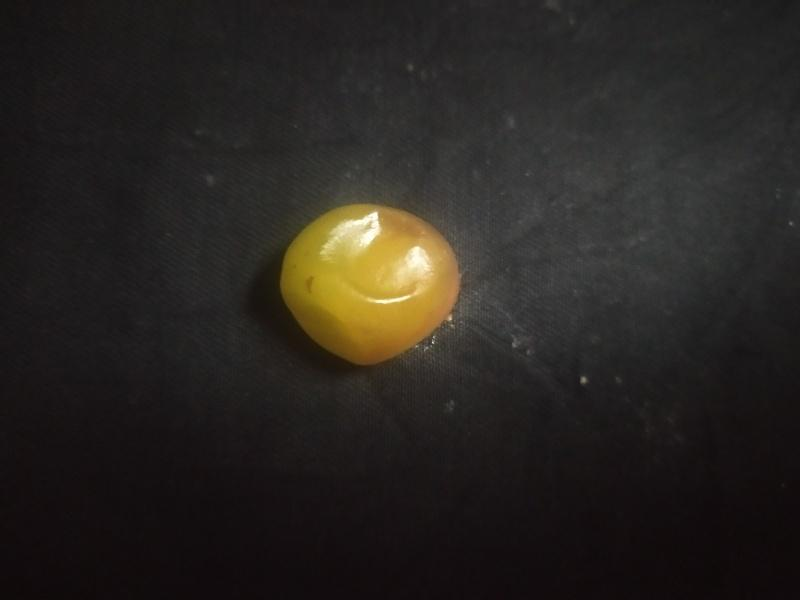Grape Overripe: (278, 199, 461, 370)
